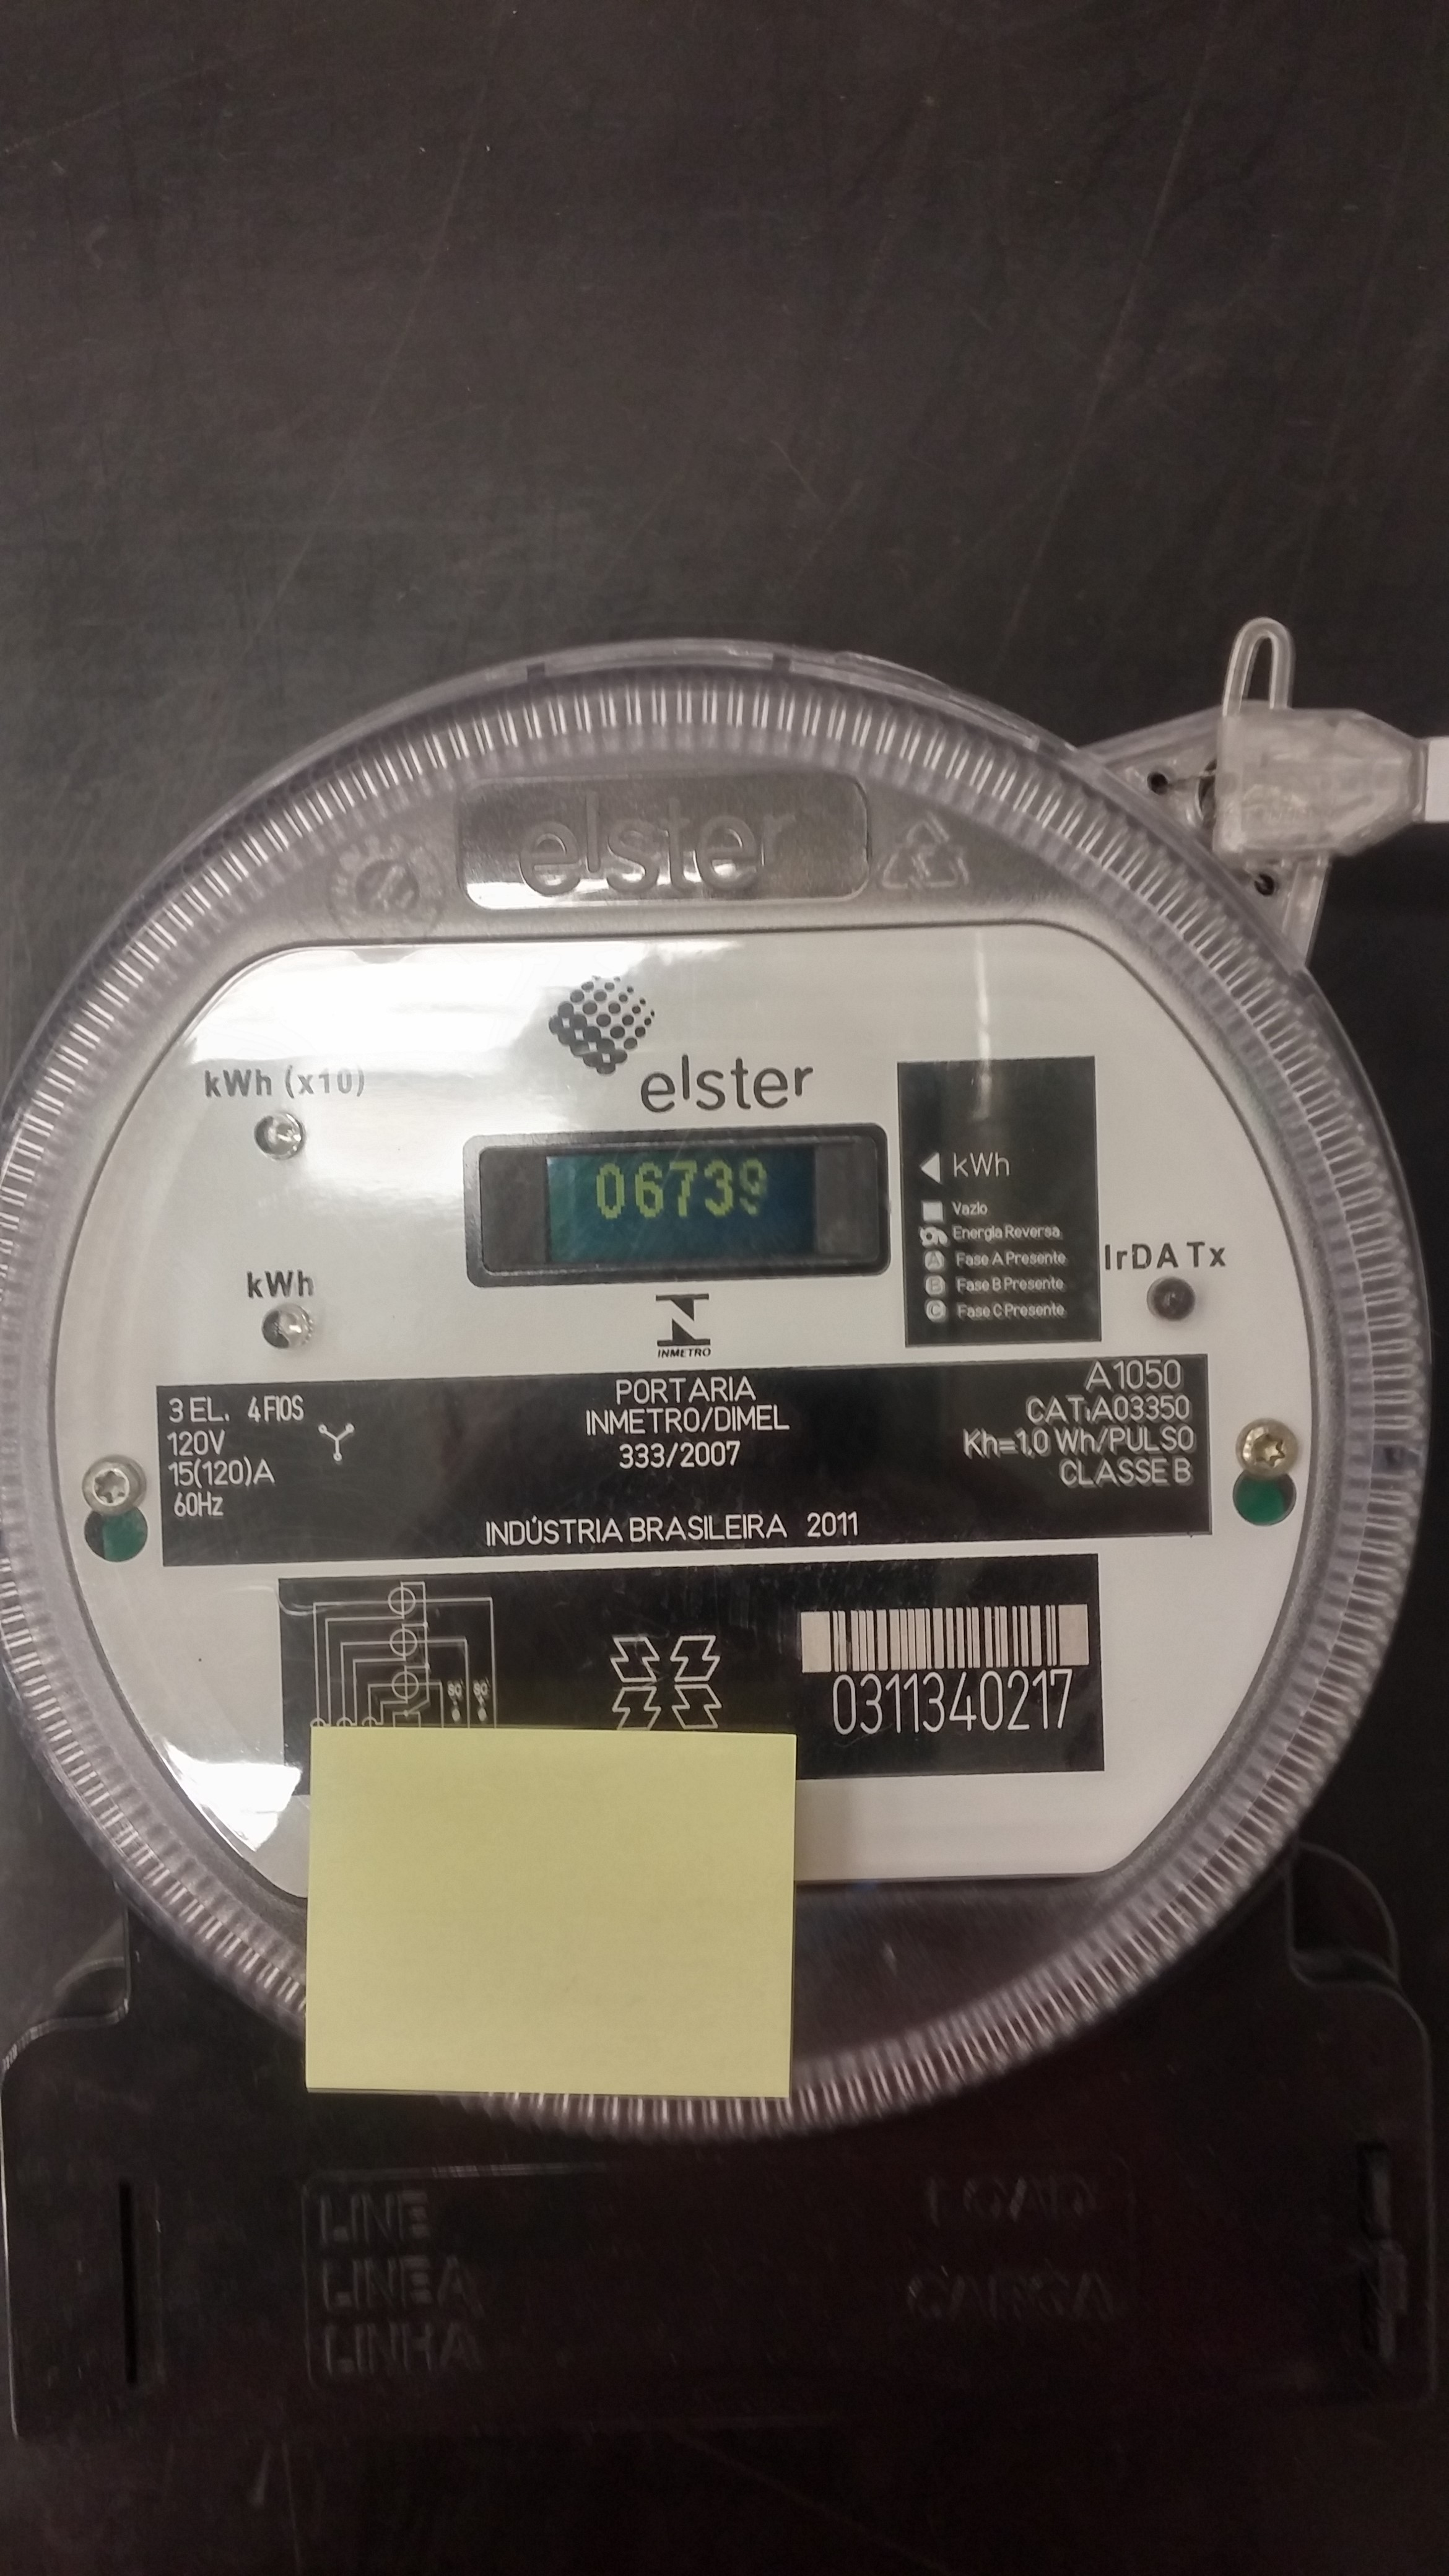counter: (529, 1131, 840, 1244)
